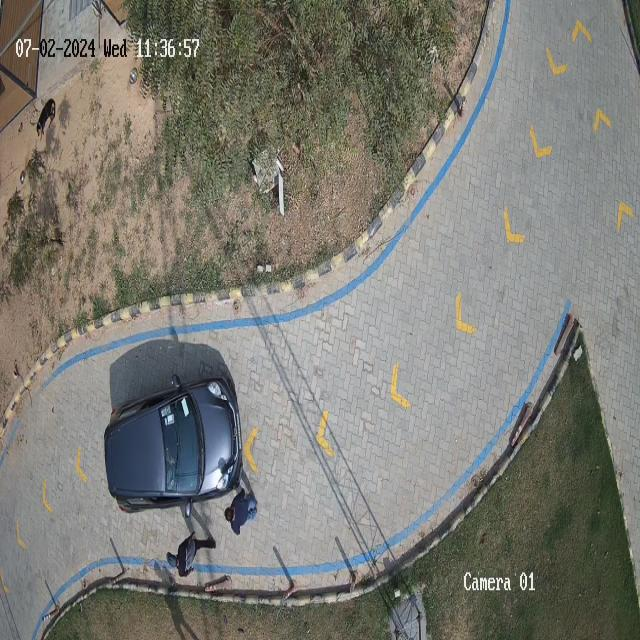car: (104, 374, 243, 514)
